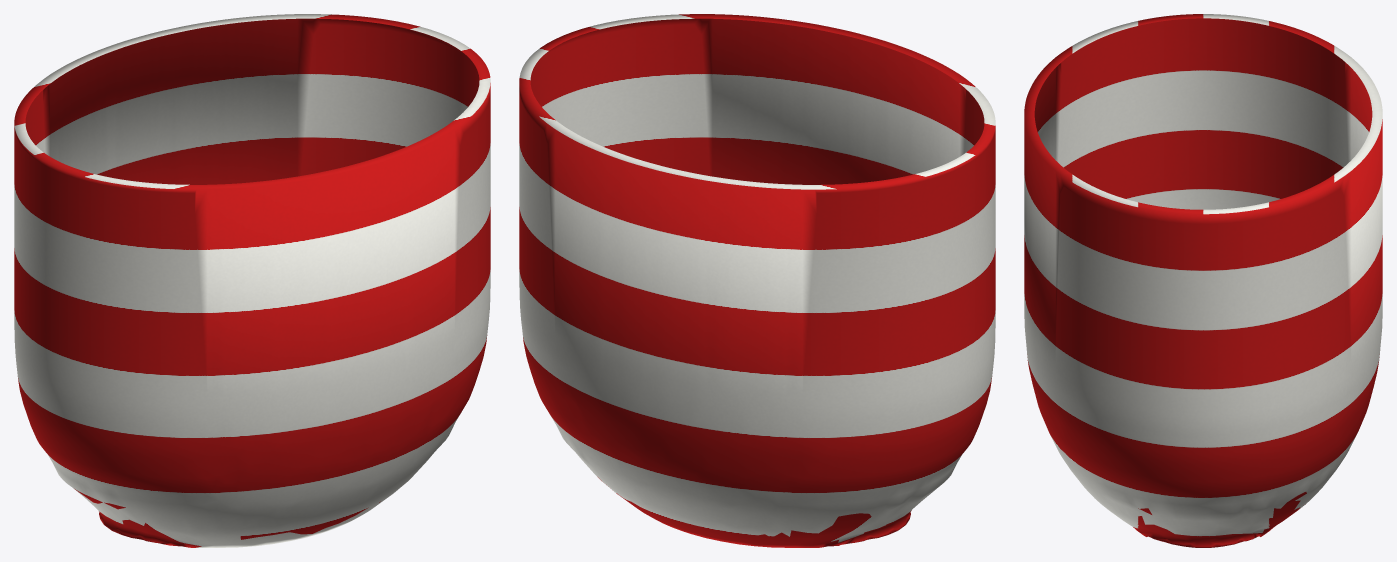
File: swimsuit1.fbx
3 renders of one model, left to right at view 1: azimuth 30°, elevation 25°; view 2: azimuth 150°, elevation 25°; view 3: azimuth 270°, elevation 25°, orthographic. The views are drawn at different scales.
Parts seen in each view (by area): view 1: swimsuit1; view 2: swimsuit1; view 3: swimsuit1.
Boxes of the visible parts, <box> form: swimsuit1: <box>14,14,490,547</box>; swimsuit1: <box>519,14,995,547</box>; swimsuit1: <box>1024,14,1382,547</box>.
Bounding box in the file's own units: 0.8145 × 0.7112 × 0.6163.
Materials: 1 (1 with a texture image).
